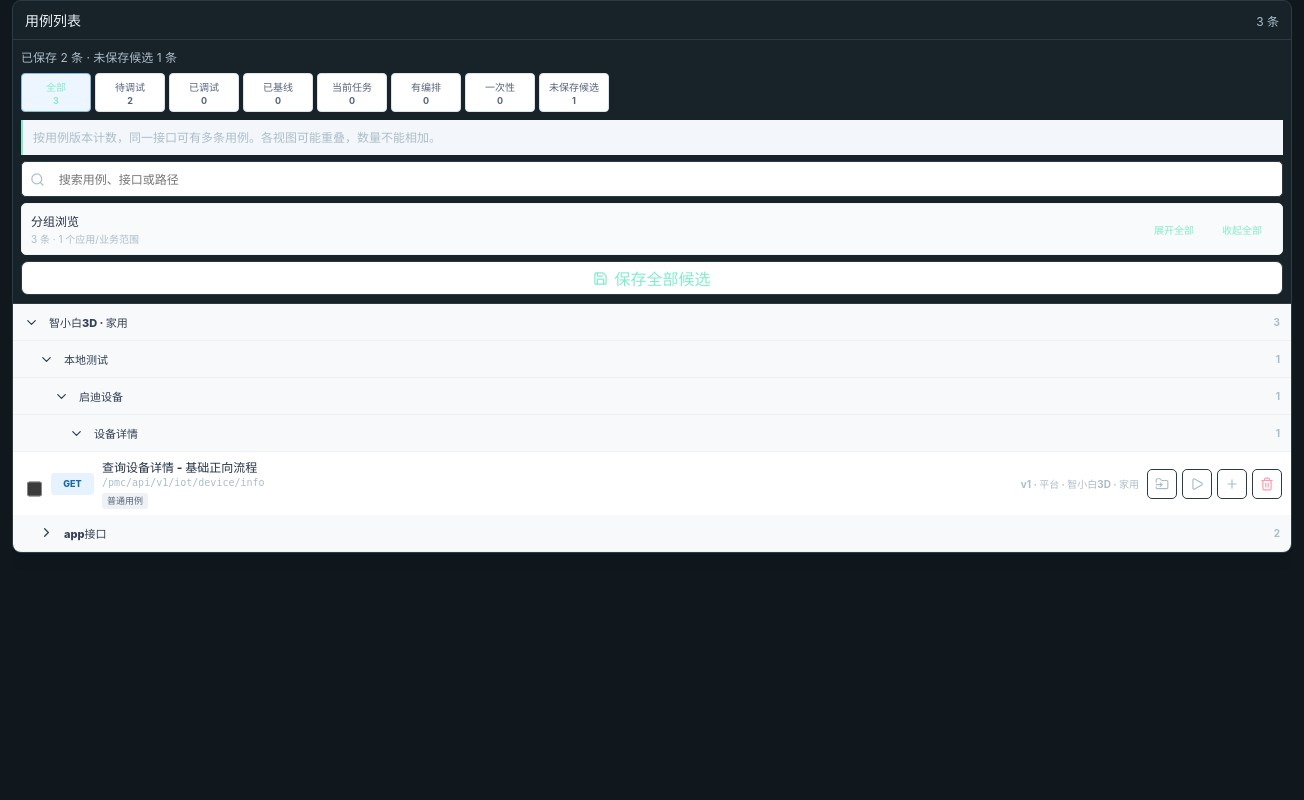
Scenario: CaseListPanel › collapses groups independently and keeps search results visible
The image size is (1304, 800).
Check: the element with test id "case-version-version-device" is shown, box [13,452,1291,515]
Click the button "app接口 2" at point(85, 534), box [13,515,1291,551]
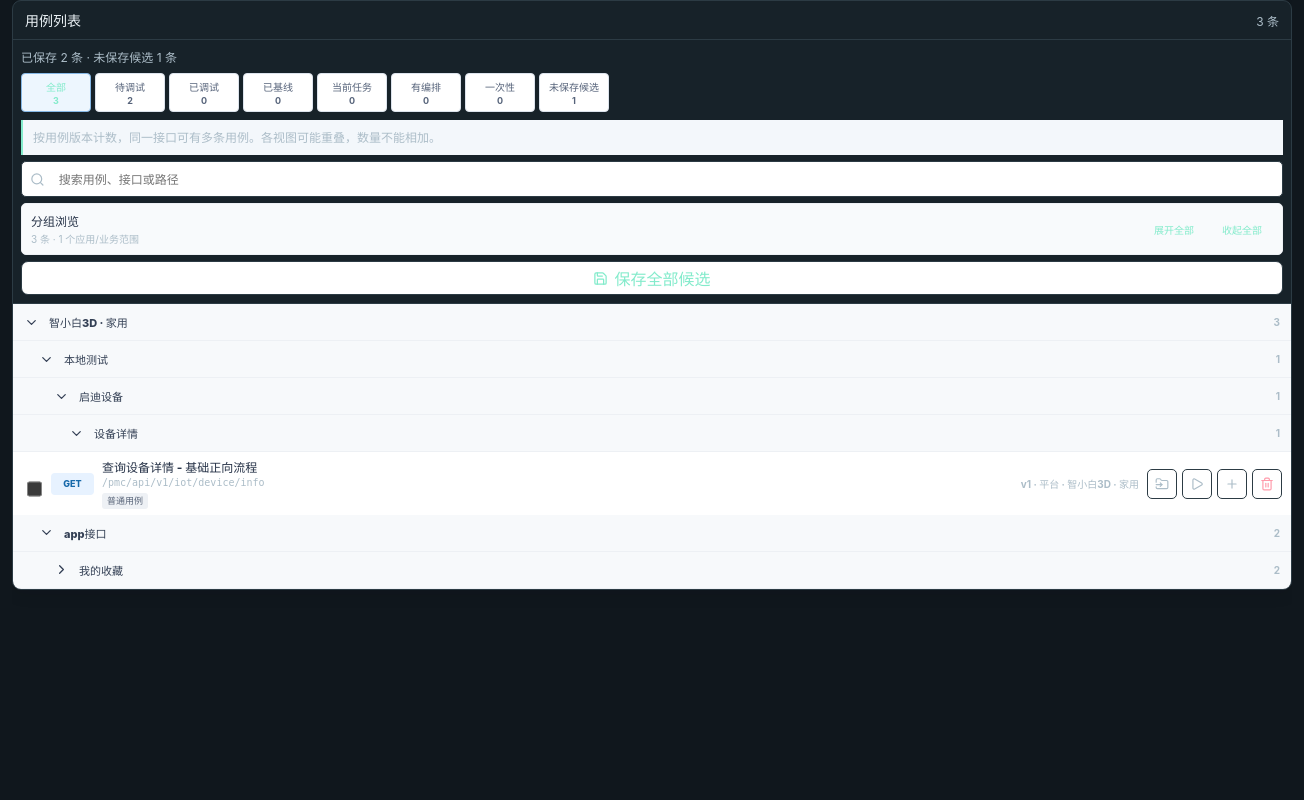
Click the button "我的收藏 2" at point(101, 571), box [13,552,1291,588]
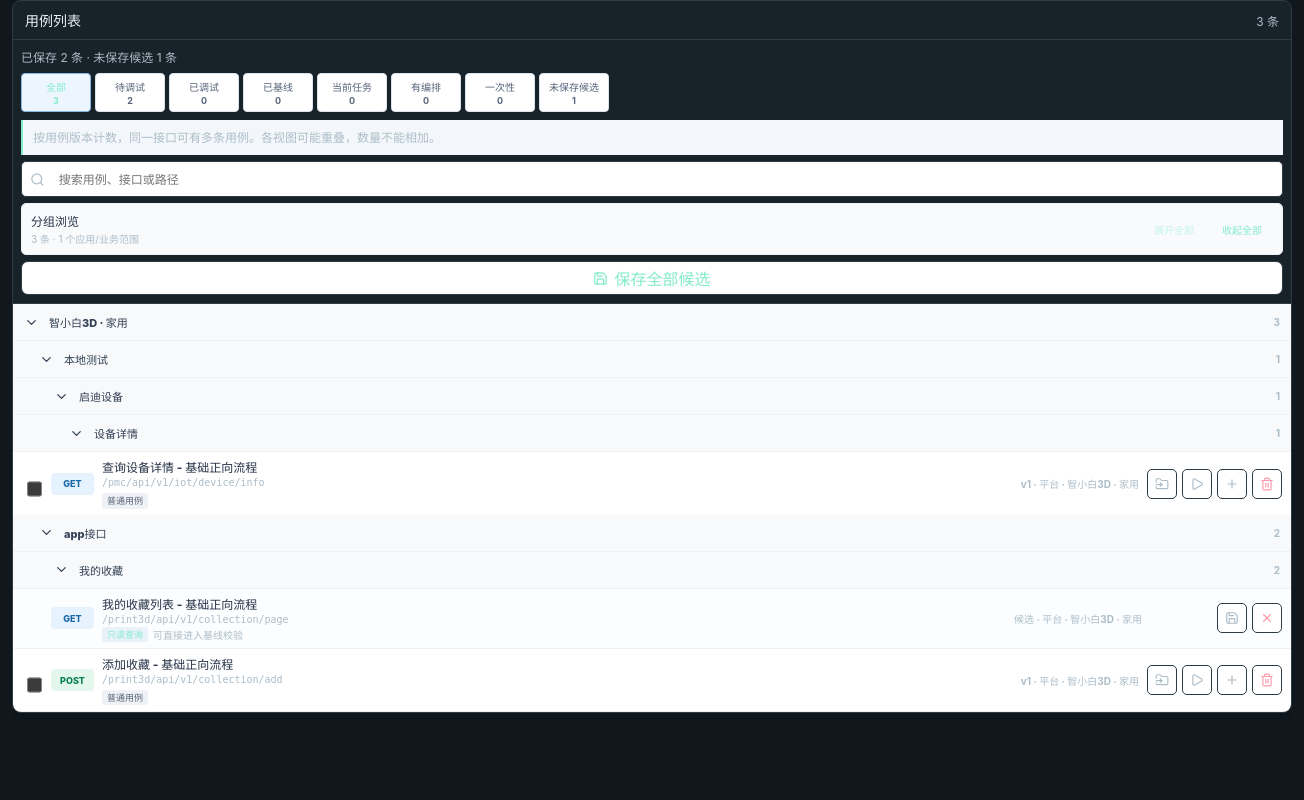
Check: the element with test id "case-version-version-device" is shown, box [13,452,1291,515]
Check: the element with test id "case-version-version-add" is shown, box [13,649,1291,711]
Click the button with test id "case-list-collapse-all" at point(1242, 229), box [1211,214,1273,244]
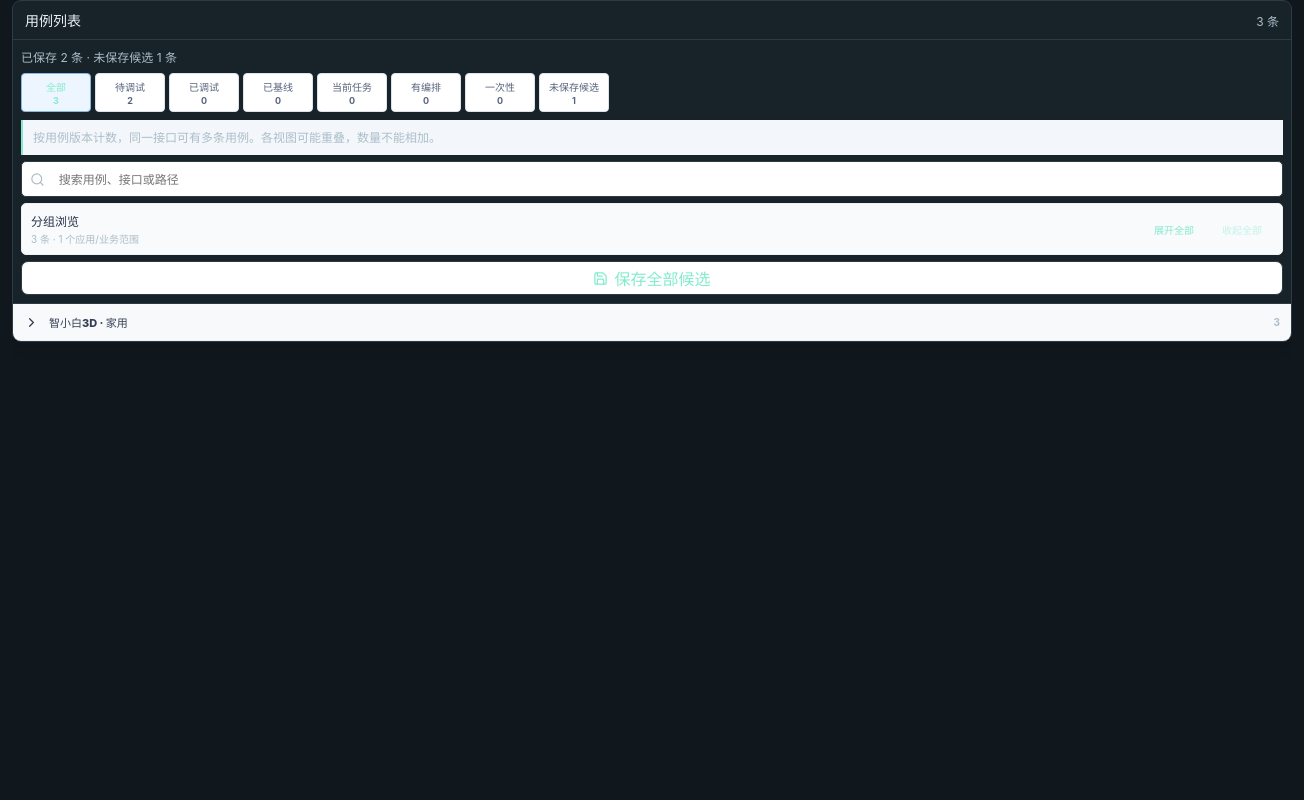
Type "设备" into the field with test id "case-list-search" showing "搜索用例、接口或路径" at point(662, 179), box [51,162,1274,196]
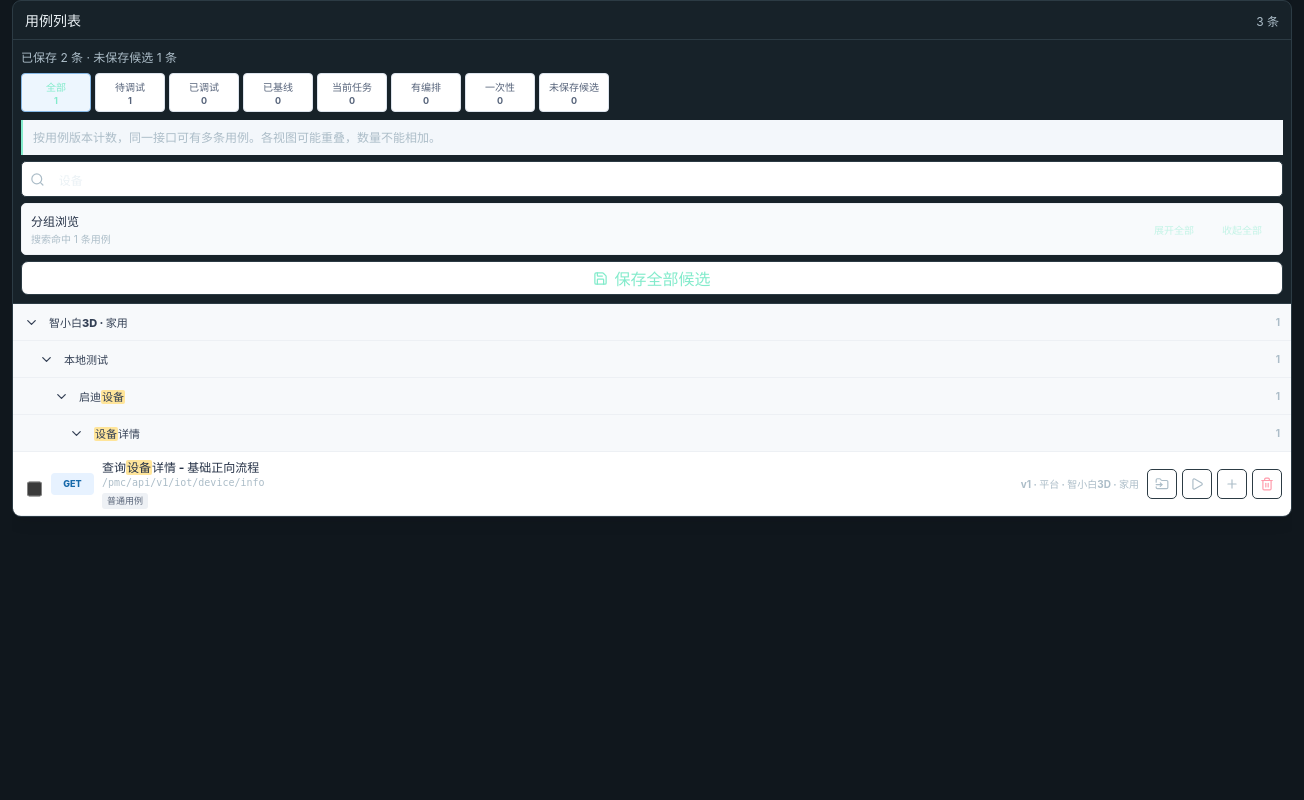
Check: the element with test id "case-version-version-device" shows "查询设备详情", box [13,452,1291,515]
Check: the 3rd text "设备" is shown, box [126,460,152,475]
Clear the 2nd field with test id "case-list-search" at point(662, 179), box [51,162,1274,196]
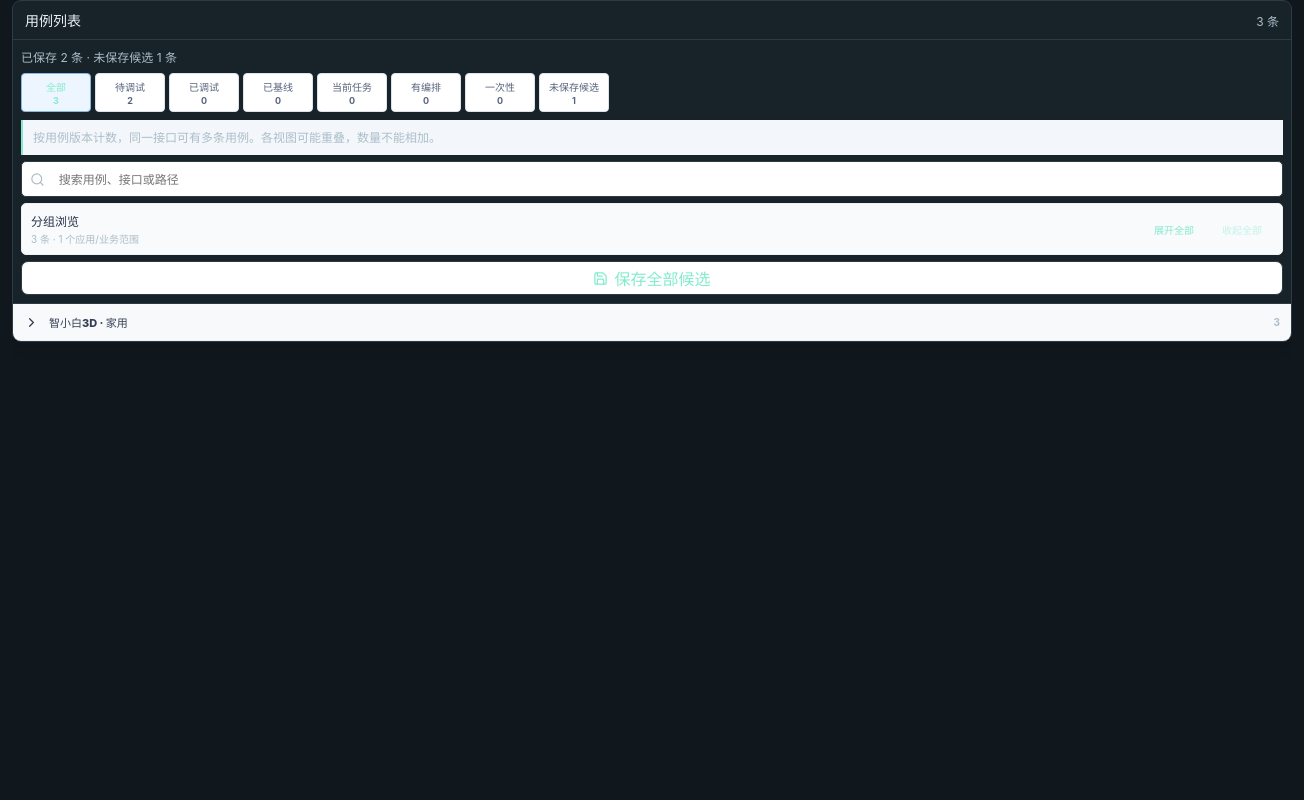
Click the button with test id "case-list-expand-all" at point(1174, 229), box [1143,214,1205,244]
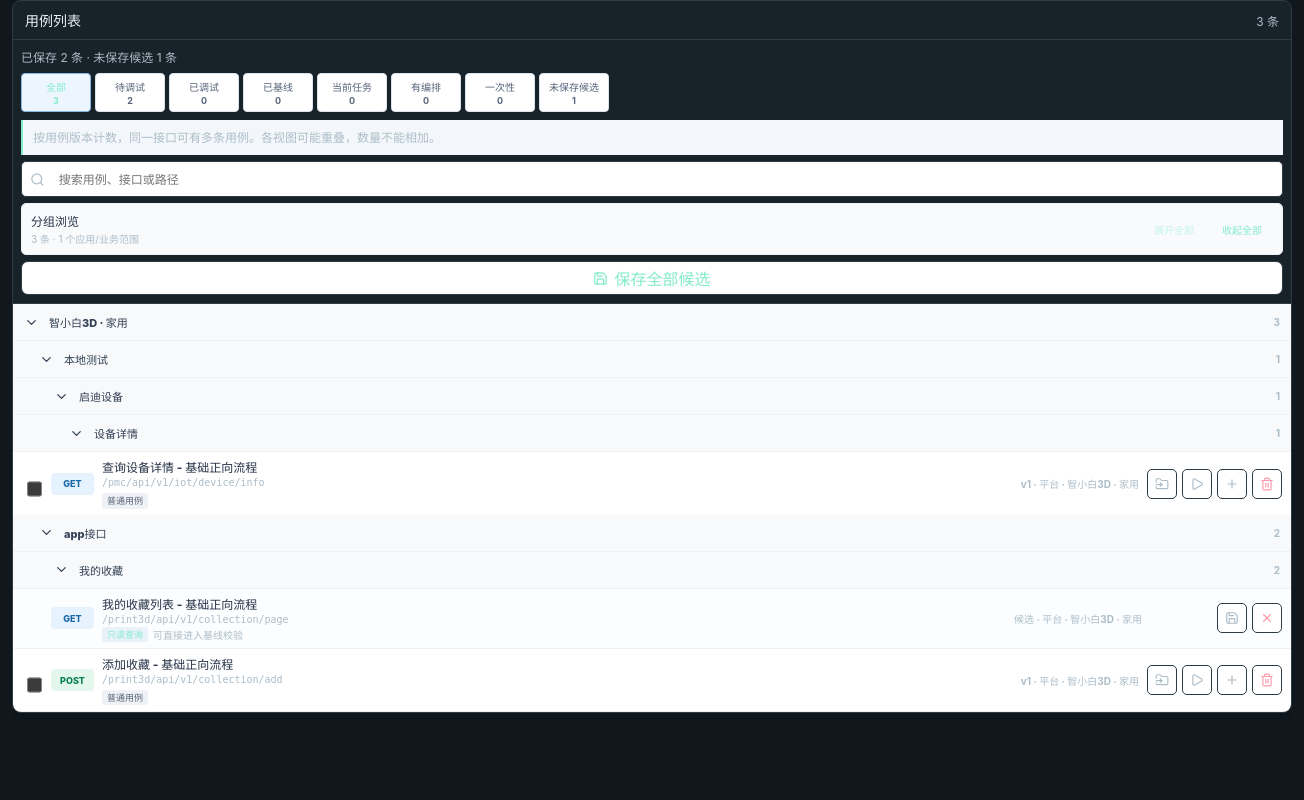
Check: the element with test id "case-version-version-add" is shown, box [13,649,1291,711]
Check: the element with test id "case-version-version-device" is shown, box [13,452,1291,515]
